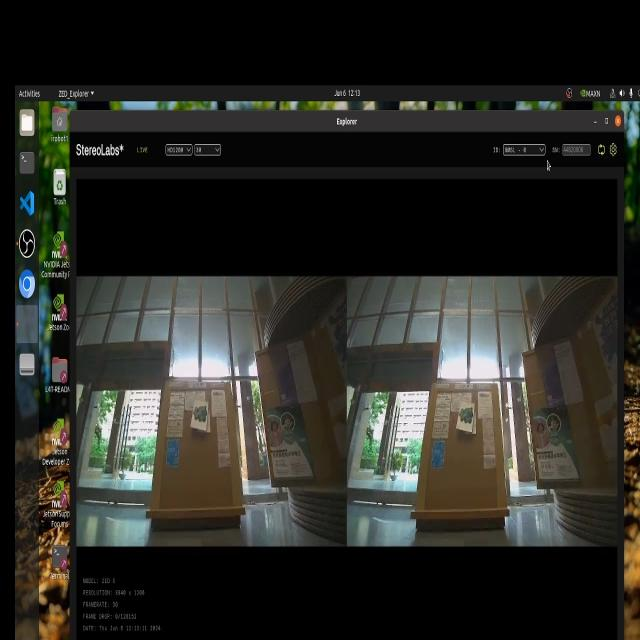green: (456, 406, 474, 433), (195, 397, 208, 428)
